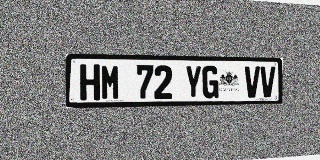2: (154, 65, 172, 99)
7: (135, 65, 154, 100)
G: (202, 66, 219, 98)
H: (80, 64, 100, 100)
M: (101, 64, 120, 100)
V: (244, 66, 260, 98), (260, 66, 275, 97)
Y: (185, 65, 202, 99)
